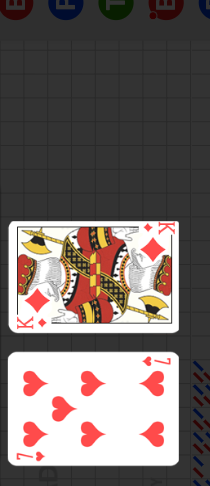7H: (15, 449, 47, 462)
KD: (142, 221, 176, 234)
